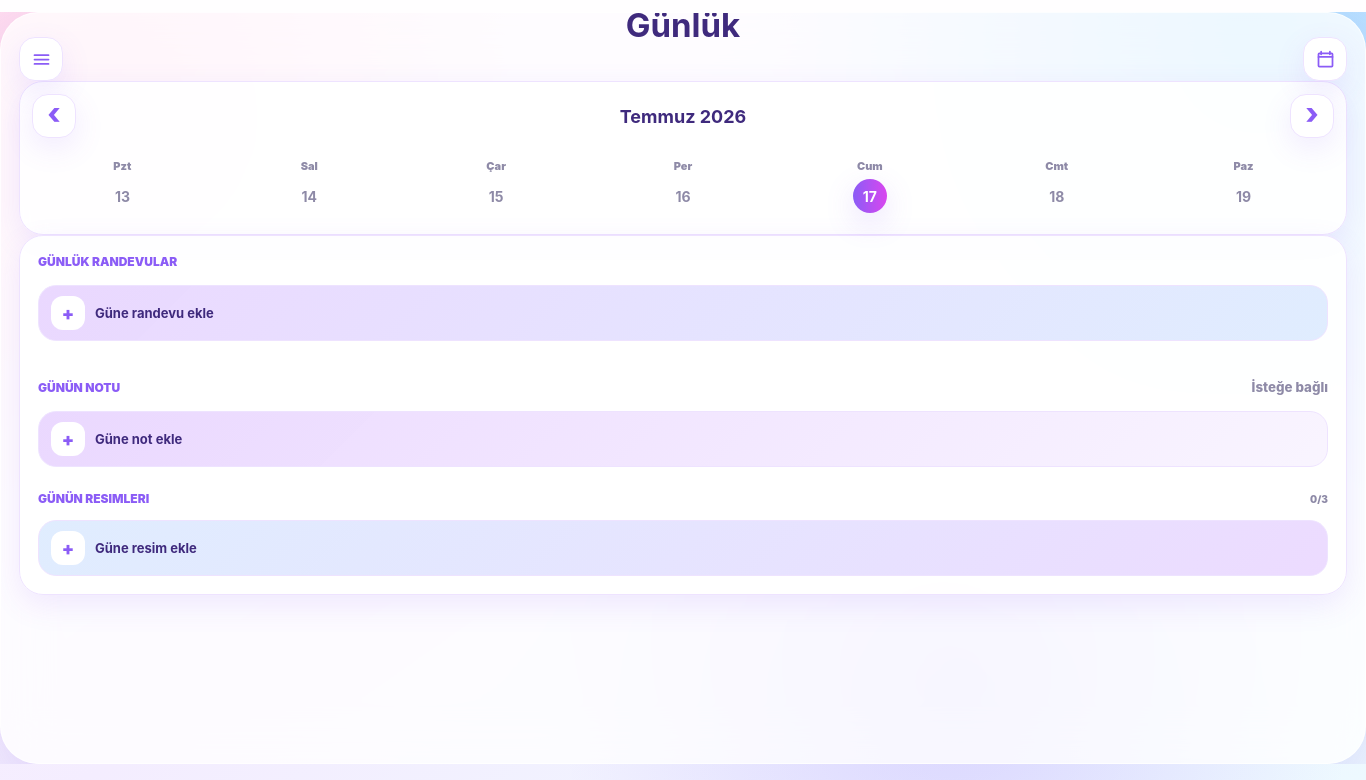
Test: DailyCheckIn, diary and routines interactions › shows Turkish weekday abbreviations in the month overview
Click the button named "Aylık genel bakış".
click(1325, 59)  # box x1=1303 y1=37 x2=1347 y2=81
(page scrolled)
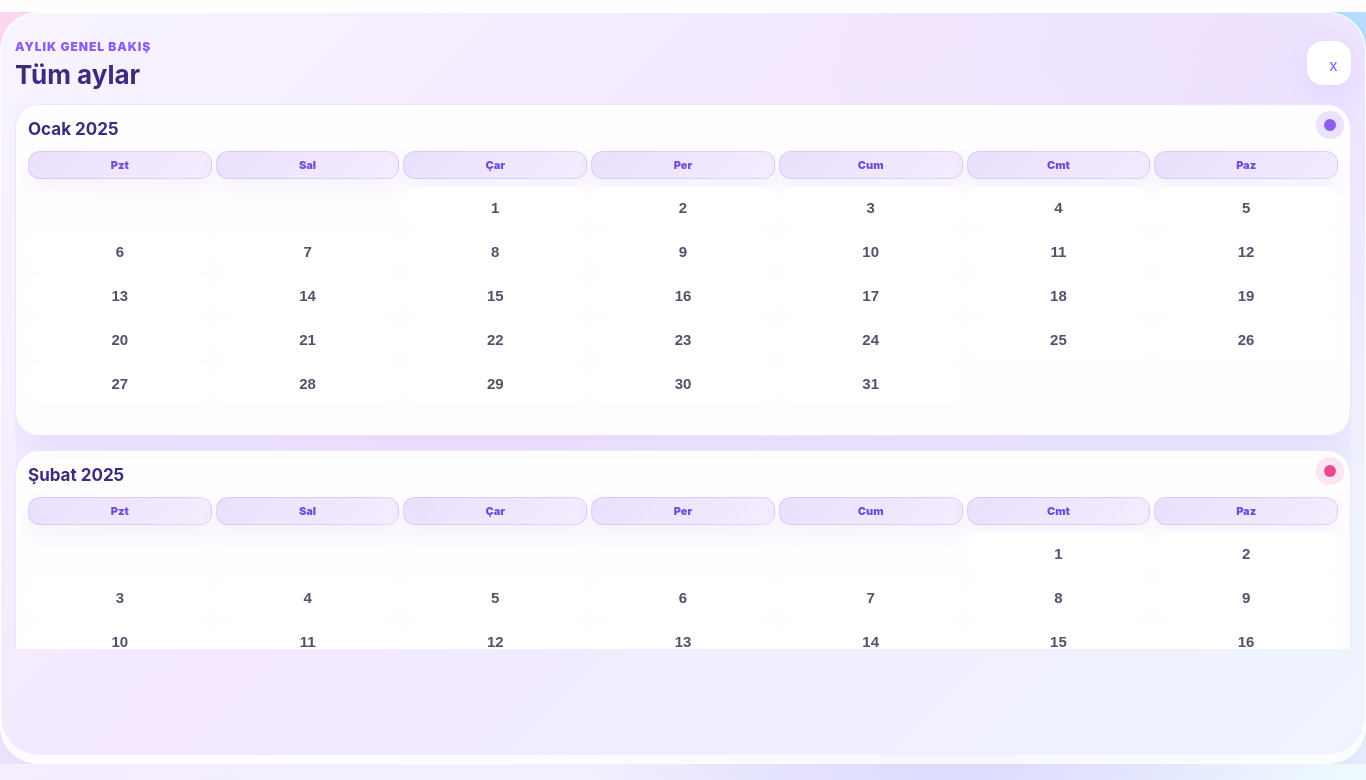
expect the text "Pzt" below "Ocak" is shown: met, box x1=111 y1=158 x2=129 y2=172
expect the text "Sal" below "Ocak" is shown: met, box x1=299 y1=158 x2=316 y2=172
expect the 1st text "Paz" is shown: met, box x1=1154 y1=151 x2=1338 y2=179
